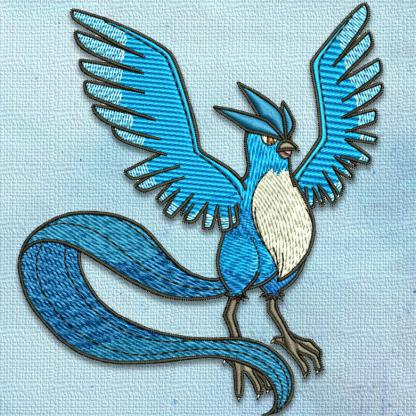Articuno: (8, 1, 416, 416)
